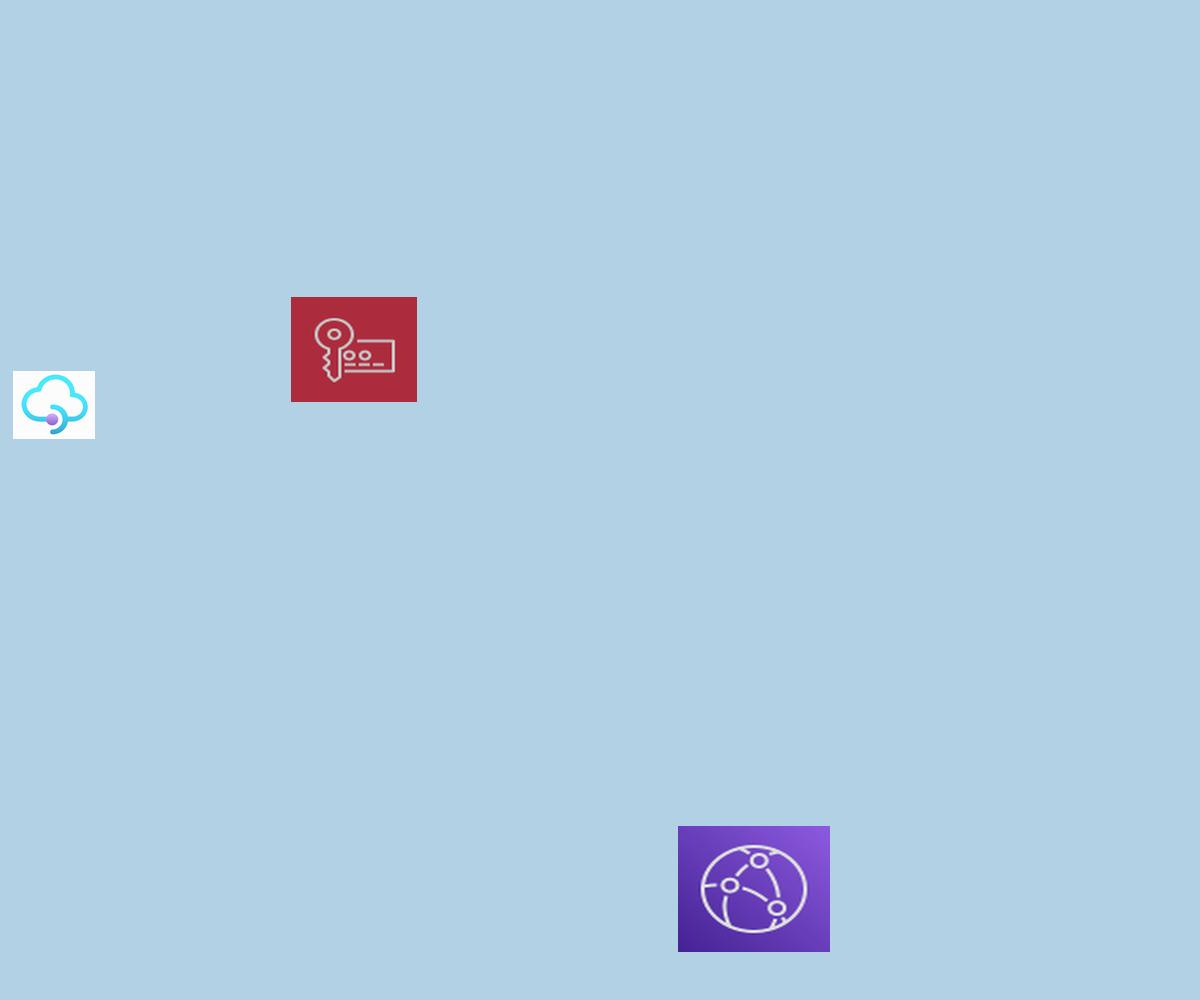AWS-CloudFront: (678, 826, 830, 952)
AWS-Key-Management-Service: (291, 297, 417, 402)
Azure_api_gateway: (13, 371, 95, 439)
